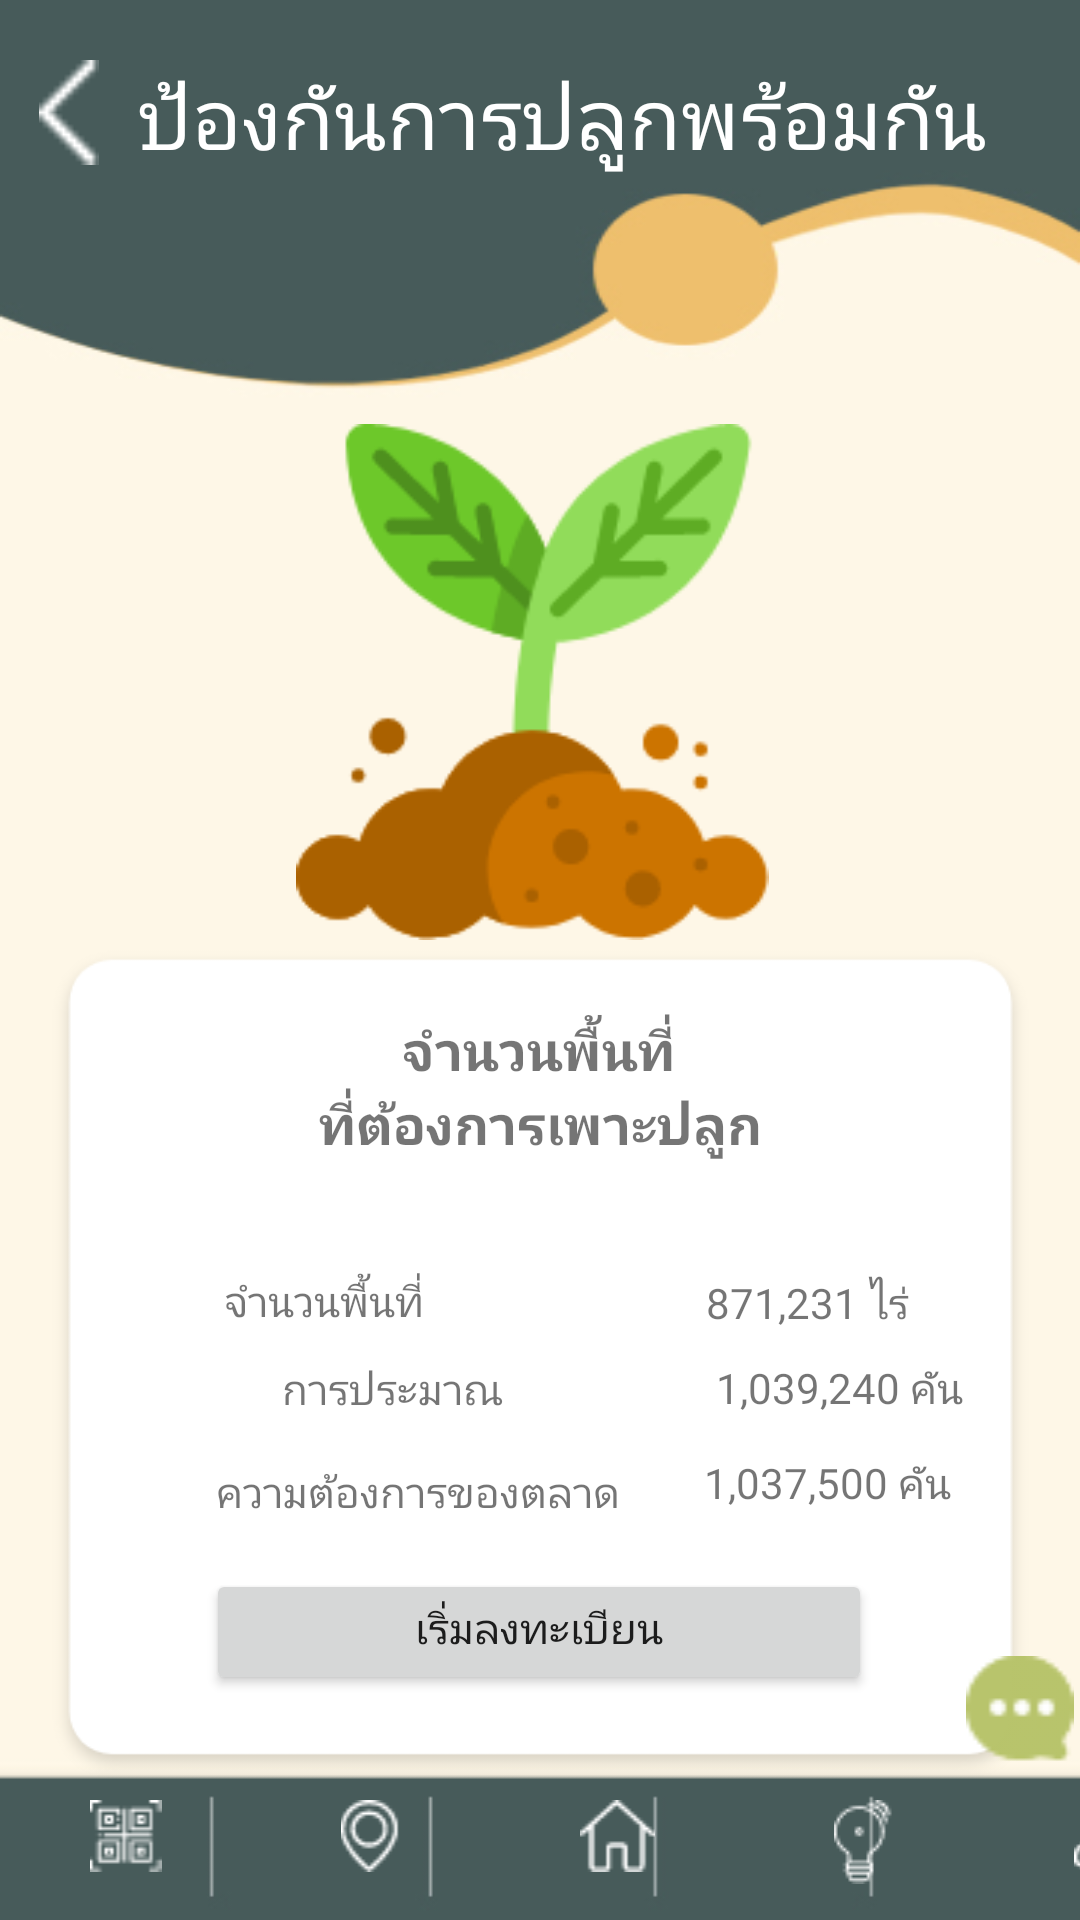

Where to tap for icons on this 1080 × 1920 app screen, as (x=x, y=y):
house: (x=618, y=1836)
placeholderrr: (x=370, y=1836)
qrcode: (x=126, y=1836)
